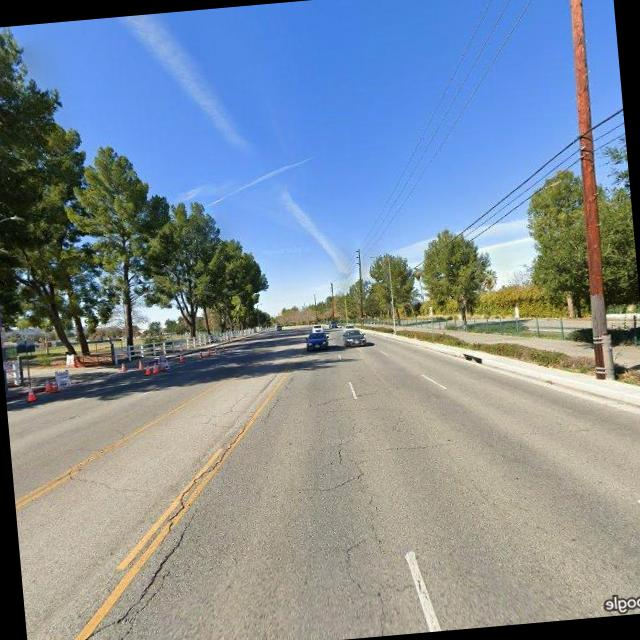crack: (311, 422, 408, 634)
pothole: (63, 521, 204, 640), (161, 418, 262, 525), (202, 387, 255, 423), (262, 394, 284, 420)
